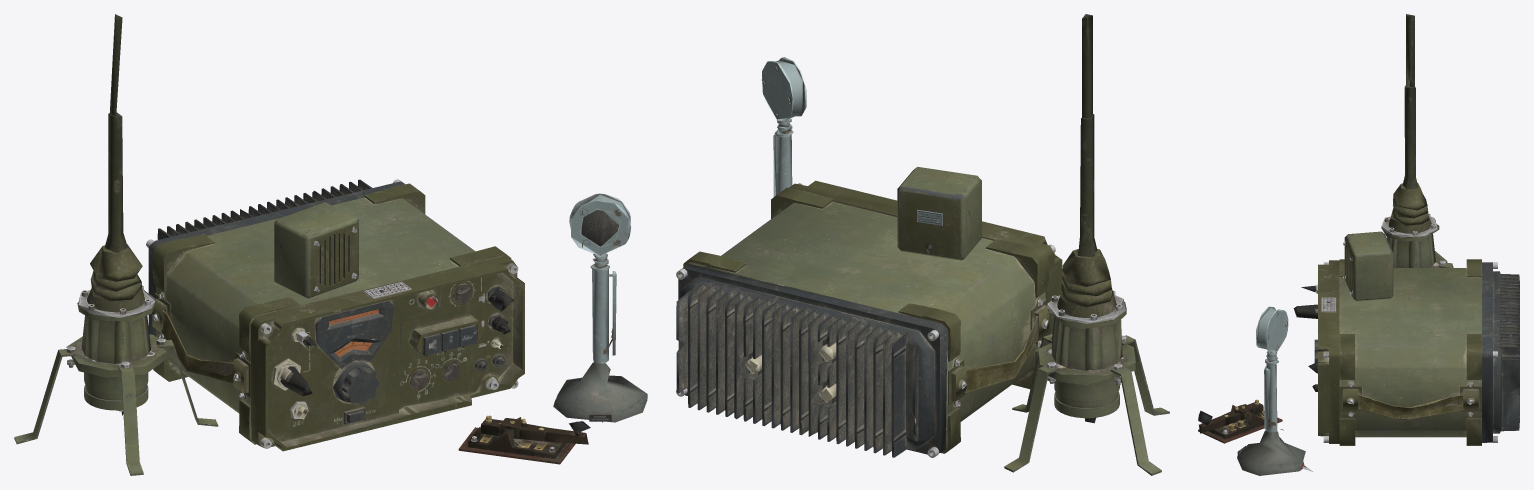
File: ph_radio.glb
3 views of the same model, side by side, from view 1: azimuth 30°, elevation 25°; view 2: azimuth 150°, elevation 25°; view 3: azimuth 270°, elevation 25° (orthographic). The views are drawn at different scales.
Parts seen in each view (by area): view 1: vintage_radio_transceiver, vintage_radio_transceiver_cable; view 2: vintage_radio_transceiver, vintage_radio_transceiver_cable; view 3: vintage_radio_transceiver, vintage_radio_transceiver_cable.
Boxes of the visible parts, left/top/right/bottom form: vintage_radio_transceiver: left=146, top=179, right=524, bottom=451; vintage_radio_transceiver_cable: left=14, top=14, right=647, bottom=475; vintage_radio_transceiver: left=676, top=180, right=1062, bottom=457; vintage_radio_transceiver_cable: left=761, top=14, right=1169, bottom=475; vintage_radio_transceiver: left=1314, top=259, right=1519, bottom=445; vintage_radio_transceiver_cable: left=1198, top=14, right=1453, bottom=475.
Size of the model in its own units: 0.5612 by 0.4329 by 0.4102.
2 materials, 2 textured.
